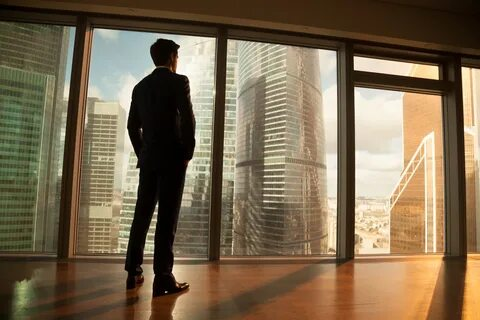awake: (124, 37, 197, 298)
